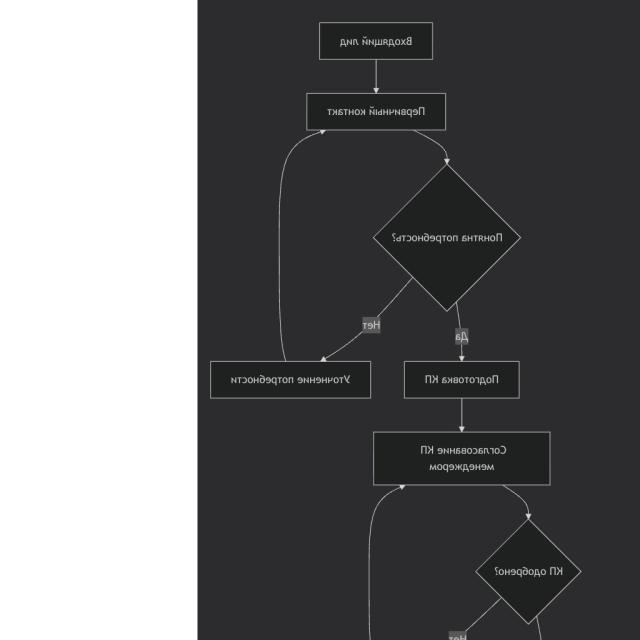arrow: (250, 124, 324, 361), (346, 480, 403, 638), (319, 278, 413, 362), (411, 125, 453, 164), (500, 483, 534, 519), (456, 303, 466, 361), (458, 399, 465, 433), (374, 61, 380, 94)
diamond: (372, 164, 522, 312), (475, 520, 582, 625)
rectangle: (372, 432, 550, 486), (209, 360, 371, 400), (306, 92, 446, 131), (403, 360, 521, 400), (320, 23, 432, 61)
text_region: (362, 318, 380, 333), (456, 329, 470, 345)
